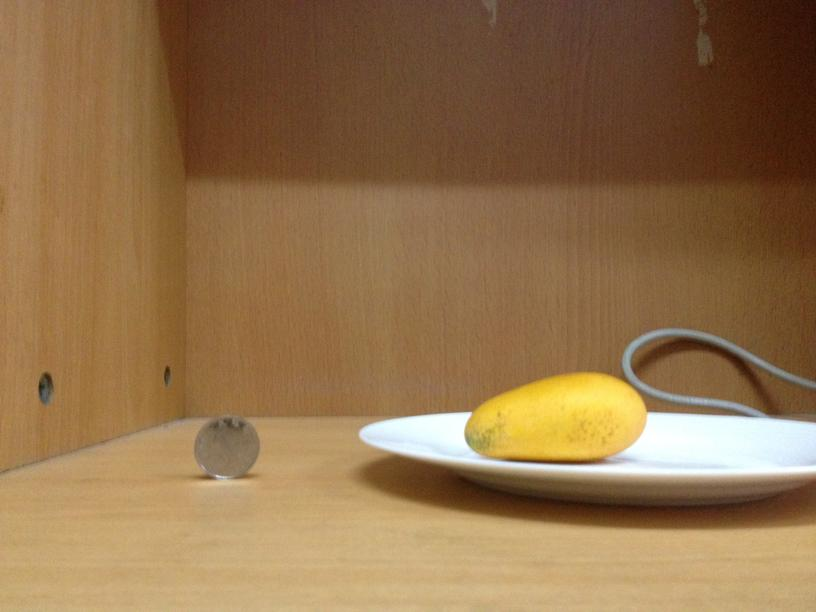coin: (193, 413, 259, 478)
mango: (465, 370, 646, 460)
